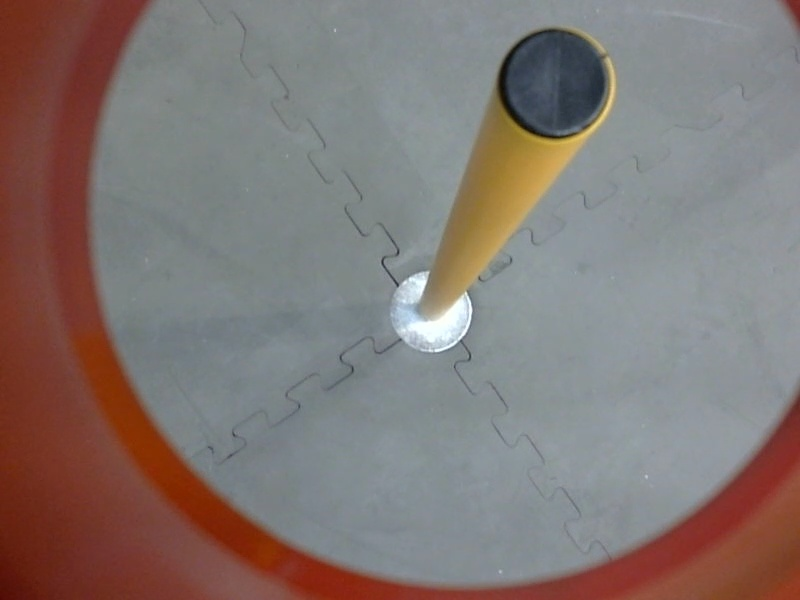tip: (491, 19, 622, 148)
